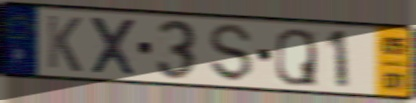1: (325, 28, 352, 91)
3: (154, 18, 200, 82)
K: (45, 13, 83, 75)
Q: (274, 26, 320, 89)
S: (207, 22, 255, 85)
X: (87, 14, 139, 79)
